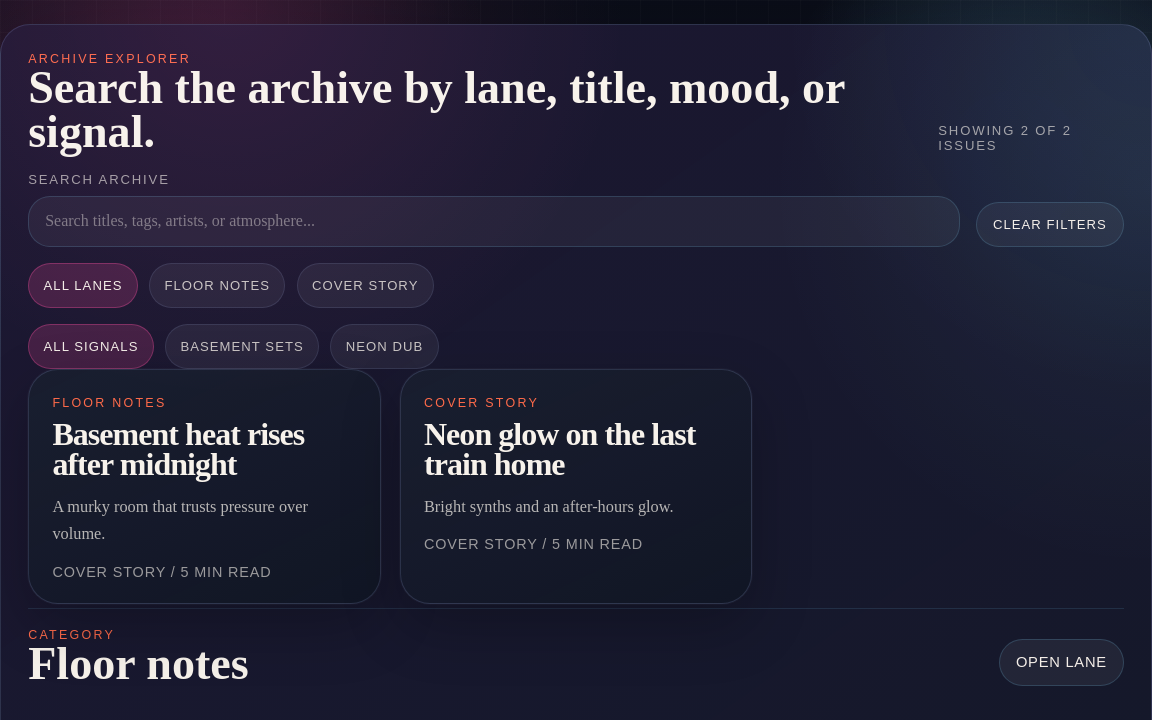
Test: ArchiveExplorer › filters posts by search text across title and excerpt
Type "midnight" into the search field labelled "Search archive" at point(494, 221), box [28,196,960,247]
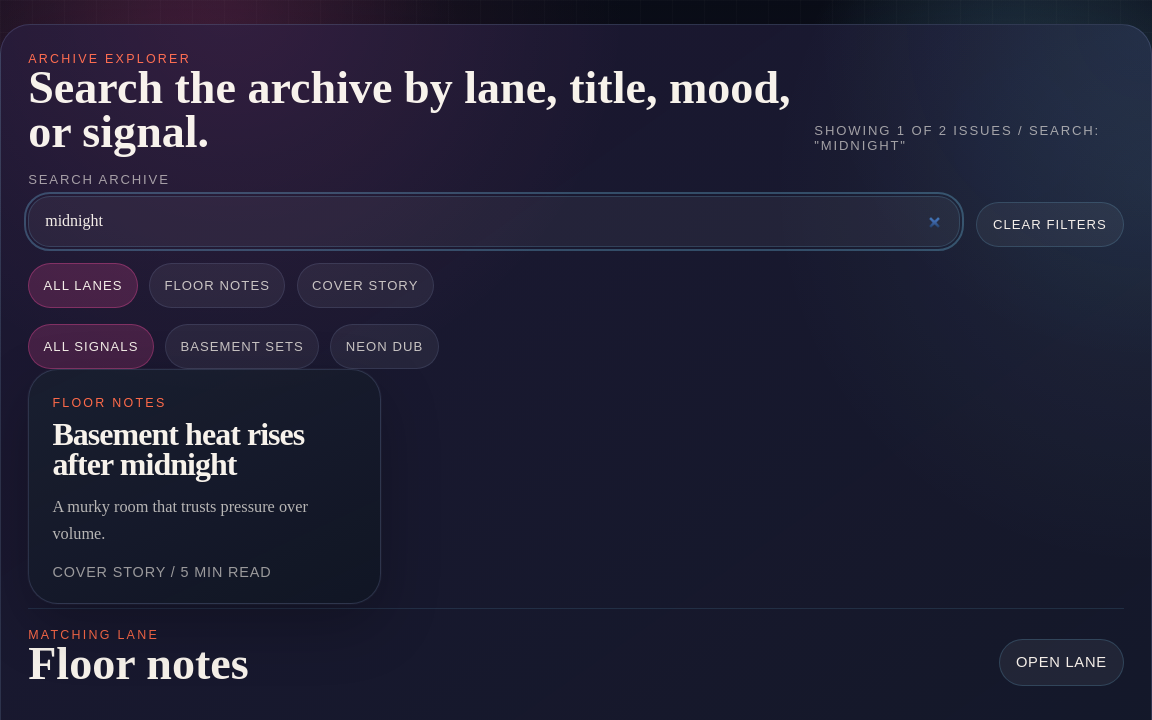
Check: the heading "Basement heat rises after midnight" is shown, box [52,416,304,482]
Check: the link "Neon glow on the last train home" is gone
